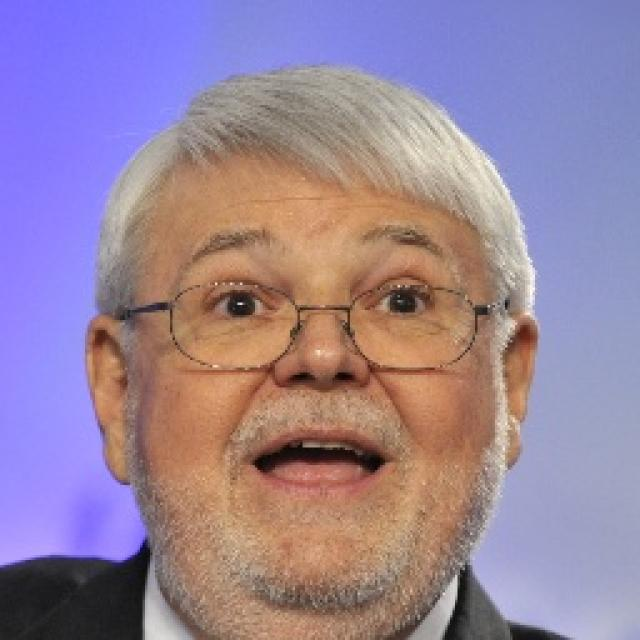earlobe: (102, 434, 134, 486), (501, 426, 523, 471)
eye: (197, 286, 276, 323), (366, 284, 438, 318)
nose: (272, 373, 373, 428)
wholeear: (83, 314, 134, 486), (498, 312, 540, 474)
